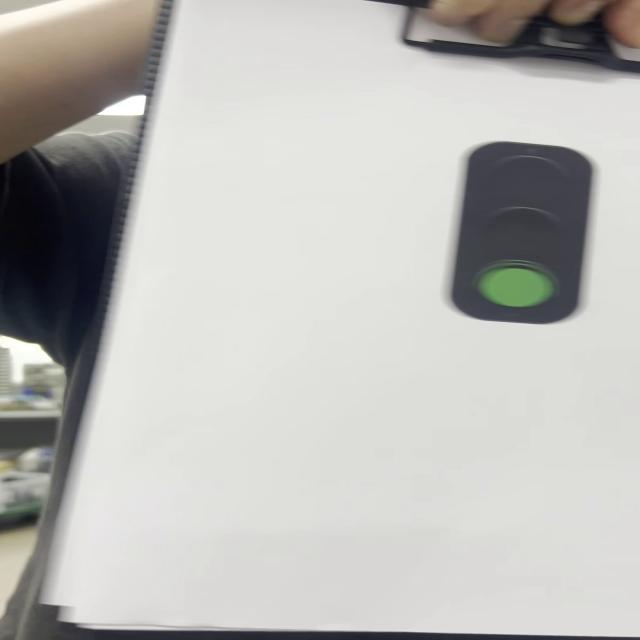green: (452, 143, 596, 326)
